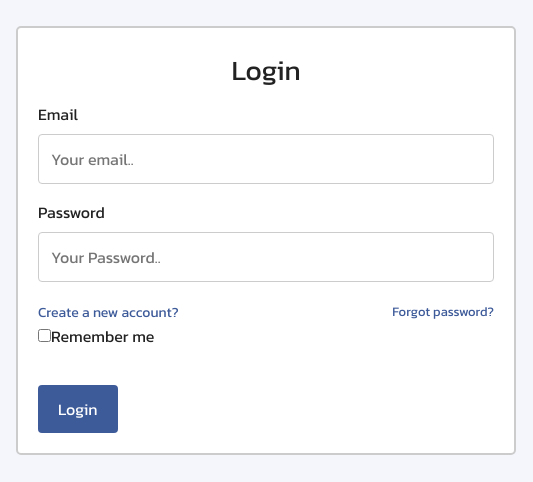
Test: Login - field validation › shows error when password is empty
The image size is (533, 482).
Type "user@test.com" into the field with placeholder "Your email.." at (266,159), box [38, 134, 494, 184]
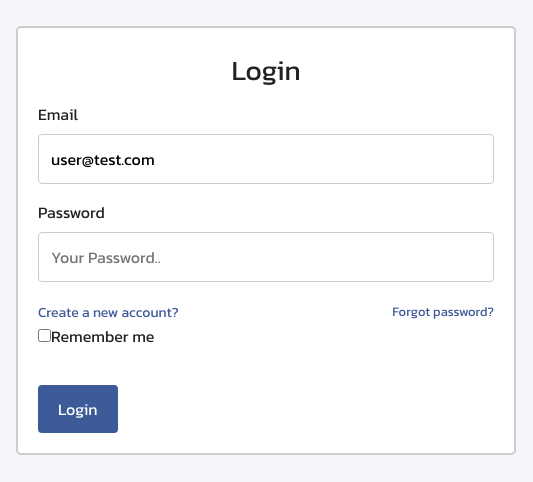
Click the button showing "Login" at (78,410), box [38, 386, 118, 434]
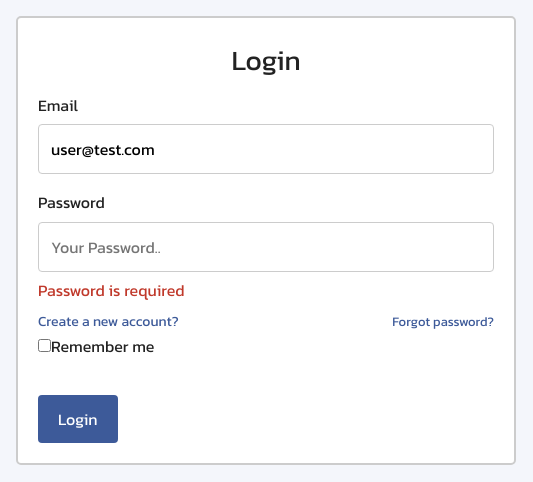
Result: the text "Password is required" is shown at [38, 278, 185, 302]
